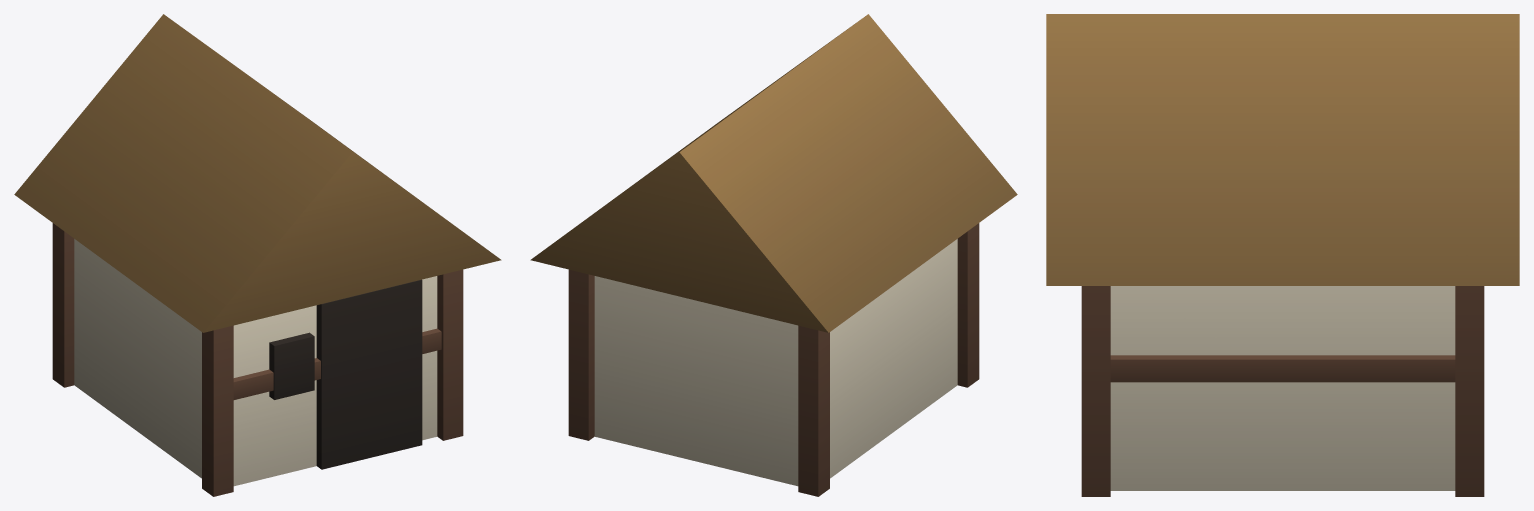
The model's file is house_NE_1a.glb.
The picture shows the model from 3 angles, left to right: view 1: azimuth 30°, elevation 25°; view 2: azimuth 150°, elevation 25°; view 3: azimuth 270°, elevation 25°; orthographic projection. The views are drawn at different scales.
Parts seen in each view (by area): view 1: Body; view 2: Body; view 3: Body.
Boxes of the visible parts, <box> form: Body: <box>14,14,501,496</box>; Body: <box>530,14,1017,496</box>; Body: <box>1046,14,1519,496</box>.
Bounding box in the file's own units: 1.04 × 1.08 × 1.14.
Materials: 1 (1 with a texture image).
